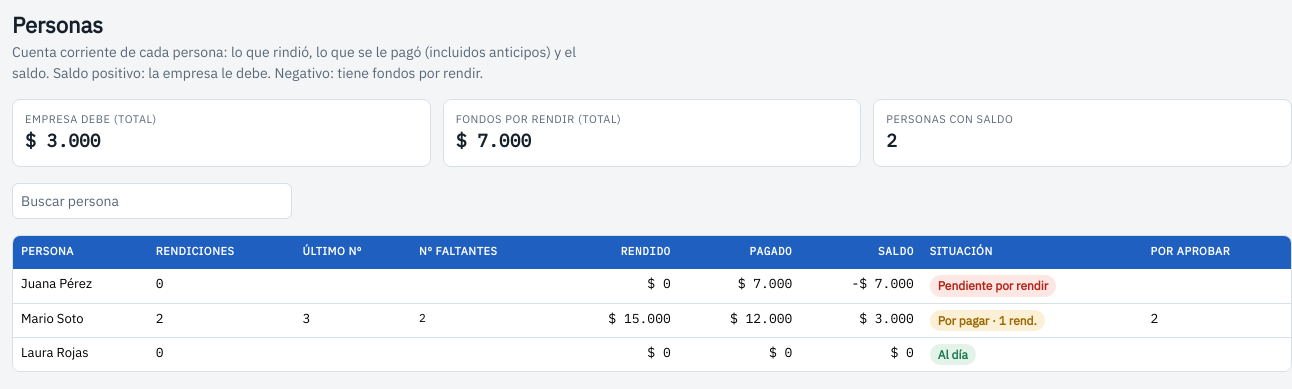
PersonasView › buscador sin tildes con "N de M personas"
Type "perez" into the search field with placeholder "Buscar persona" at point(152, 201), box [12, 183, 292, 219]
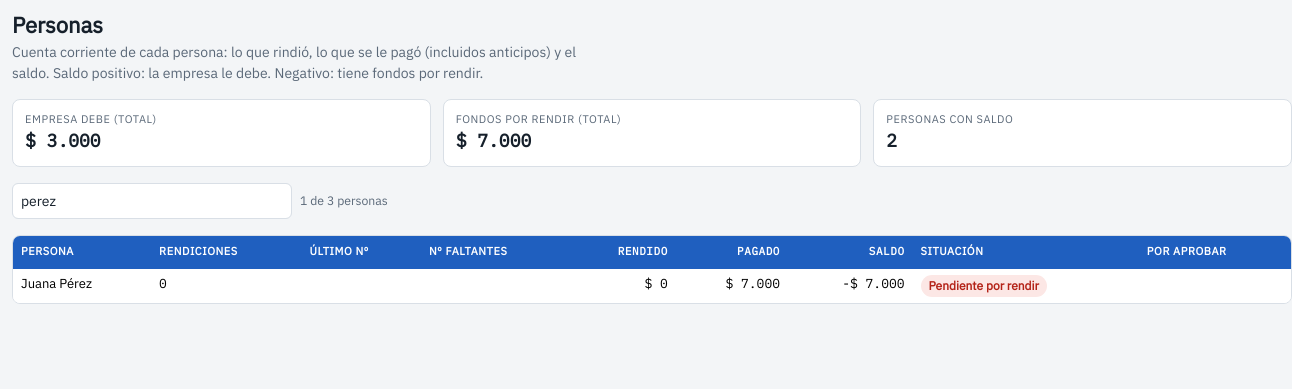
Expected: the text "1 de 3 personas" is shown, [300, 192, 388, 210]
